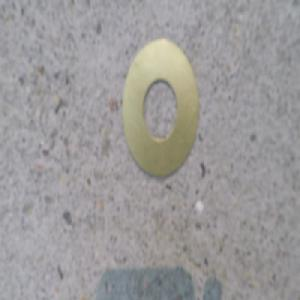Washer: (117, 37, 196, 177)
